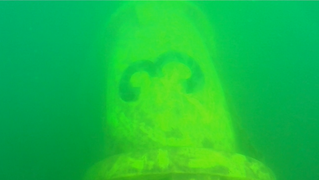3: (118, 50, 205, 102)
pipe: (84, 1, 278, 179)
